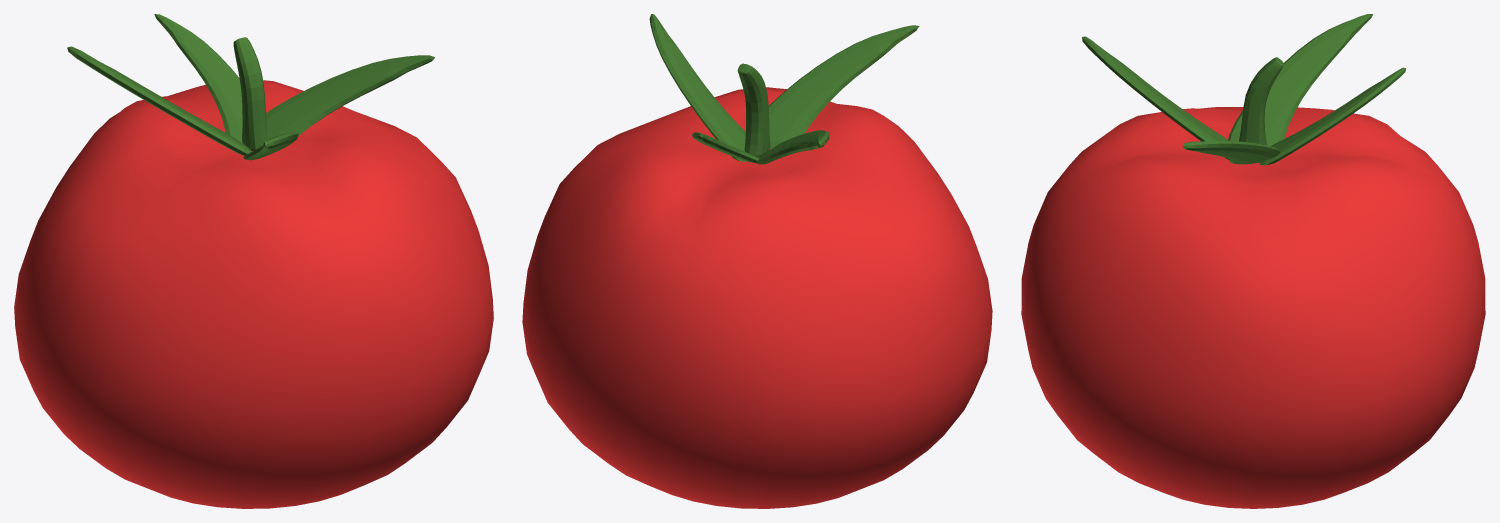
The model's file is Tomato-Throw.fbx.
3 renders of one model, left to right at view 1: azimuth 30°, elevation 25°; view 2: azimuth 150°, elevation 25°; view 3: azimuth 270°, elevation 25°, orthographic. The views are drawn at different scales.
Visible parts, largest first — view 1: Sphere.001; view 2: Sphere.001; view 3: Sphere.001.
Part boxes in pixels (<box>): Sphere.001: <box>14,14,493,508</box>; Sphere.001: <box>522,14,992,508</box>; Sphere.001: <box>1021,14,1485,508</box>.
Bounding box in the file's own units: 347 × 344 × 343.
